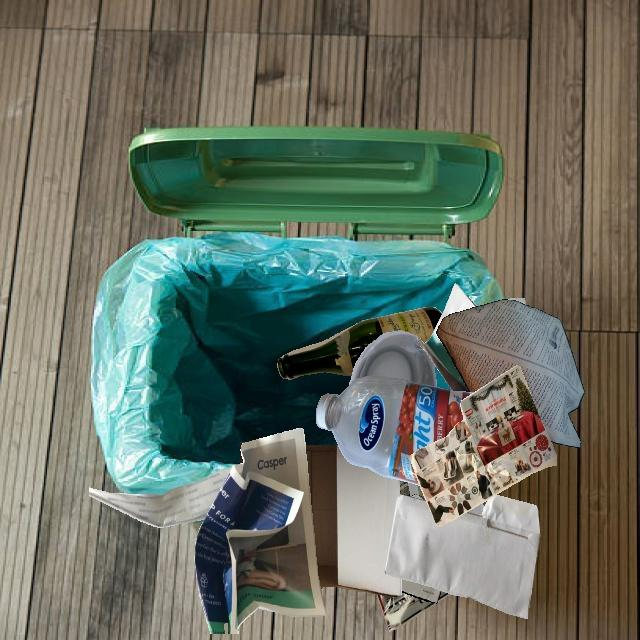cardboard: (305, 445, 401, 596)
glass: (277, 307, 442, 379), (408, 482, 425, 500), (468, 503, 484, 515)
paper: (195, 428, 326, 634), (409, 365, 556, 527), (436, 299, 584, 448), (384, 494, 540, 619), (89, 467, 232, 528), (417, 283, 476, 392), (401, 578, 441, 603)
plastic: (316, 375, 474, 486), (376, 497, 450, 594), (349, 330, 437, 387), (376, 594, 436, 632)
